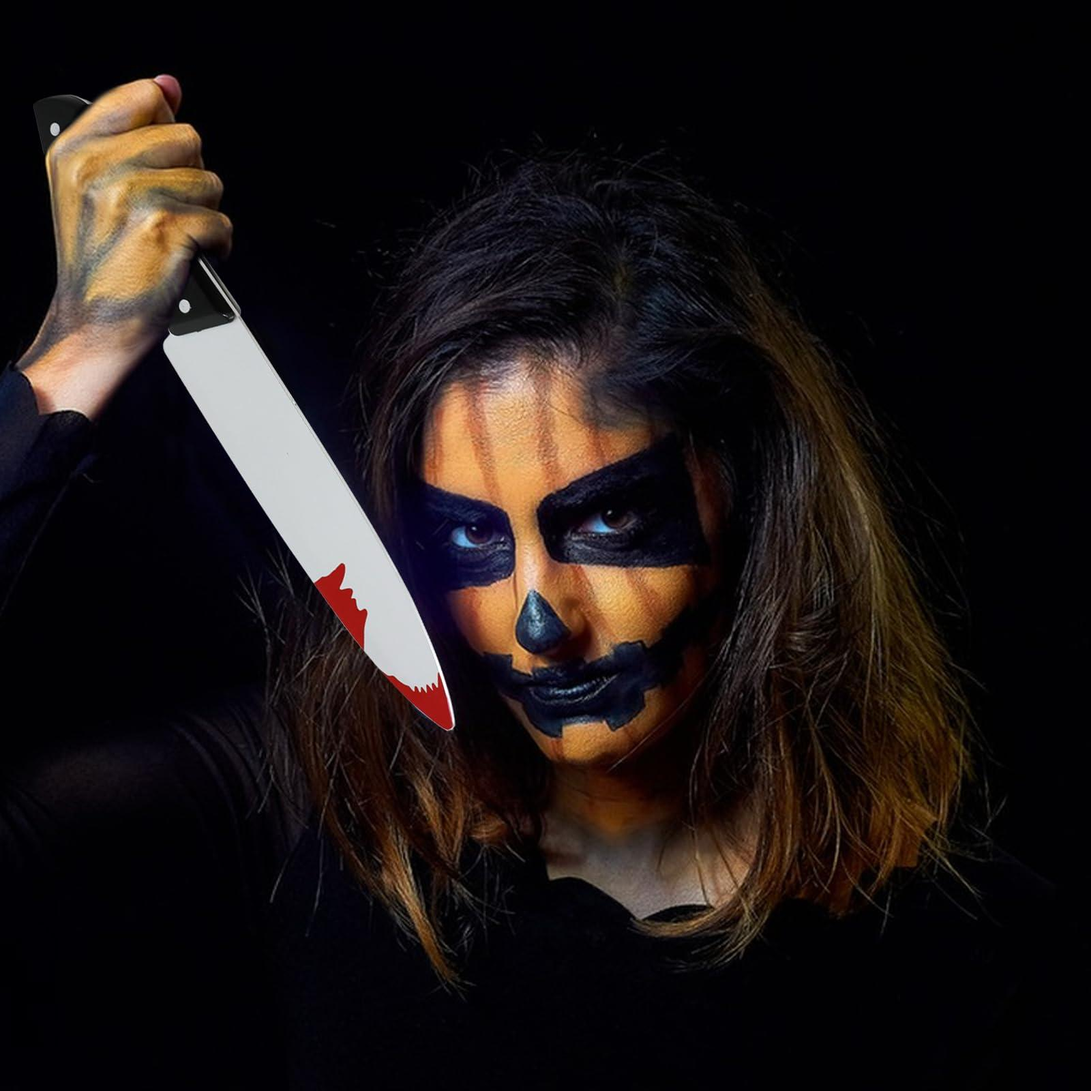Knife: (0, 74, 1091, 1091), (164, 293, 457, 735), (44, 74, 233, 335)
